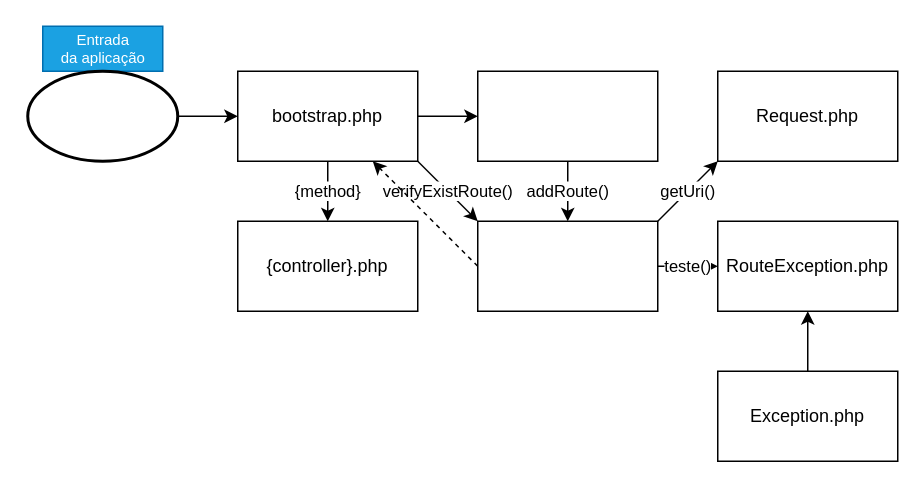
Image size: 924x488. Some labels were removed from this diagram. The centre of each missing label's shape, as x and y in pixels:
"index.php" belongs at point (102, 115).
"Route.php" belongs at point (567, 265).
"web.php" belongs at point (567, 115).
